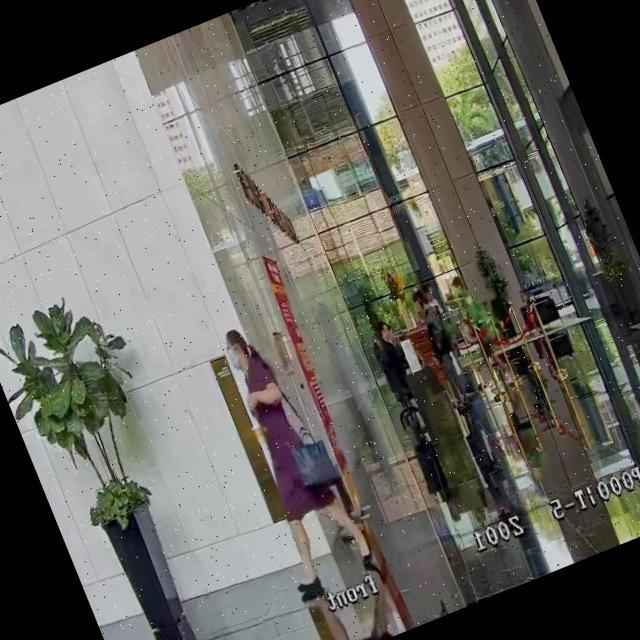person: (198, 313, 377, 604), (407, 282, 478, 408), (448, 270, 516, 388), (366, 318, 422, 411)
